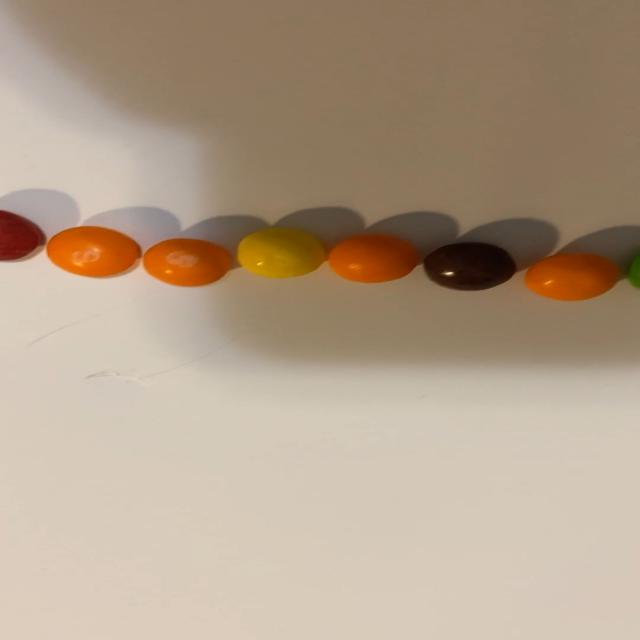smartie: (45, 226, 139, 277), (0, 210, 41, 260)
